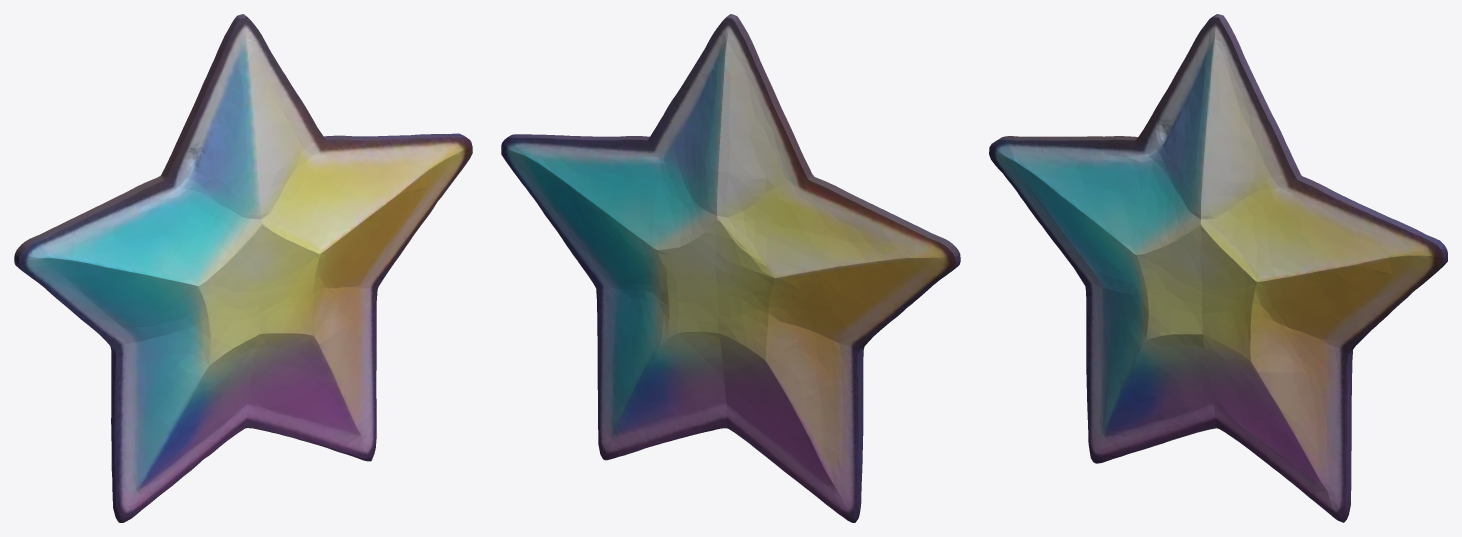
The model's file is starry.glb.
3 renders of one model, left to right at view 1: azimuth 30°, elevation 25°; view 2: azimuth 150°, elevation 25°; view 3: azimuth 330°, elevation 25°, orthographic.
Parts seen in each view (by area): view 1: world; view 2: world; view 3: world.
Boxes of the visible parts, <box> form: world: <box>14,14,472,522</box>; world: <box>501,14,960,522</box>; world: <box>989,14,1447,522</box>.
Bounding box in the file's own units: 0.997 × 0.9999 × 0.1307.
1 material, 1 textured.
